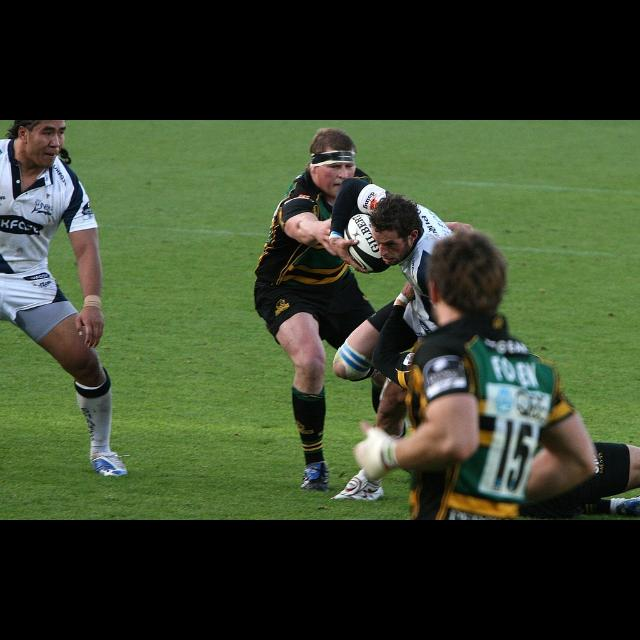Football: (342, 213, 390, 270)
